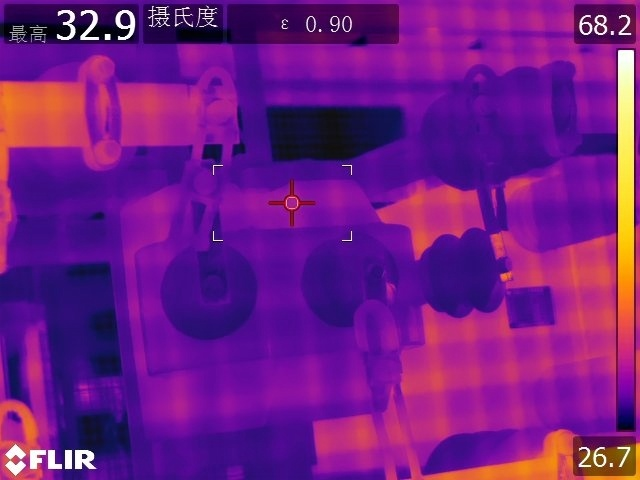clamp: (348, 295, 437, 480), (171, 63, 246, 241)
